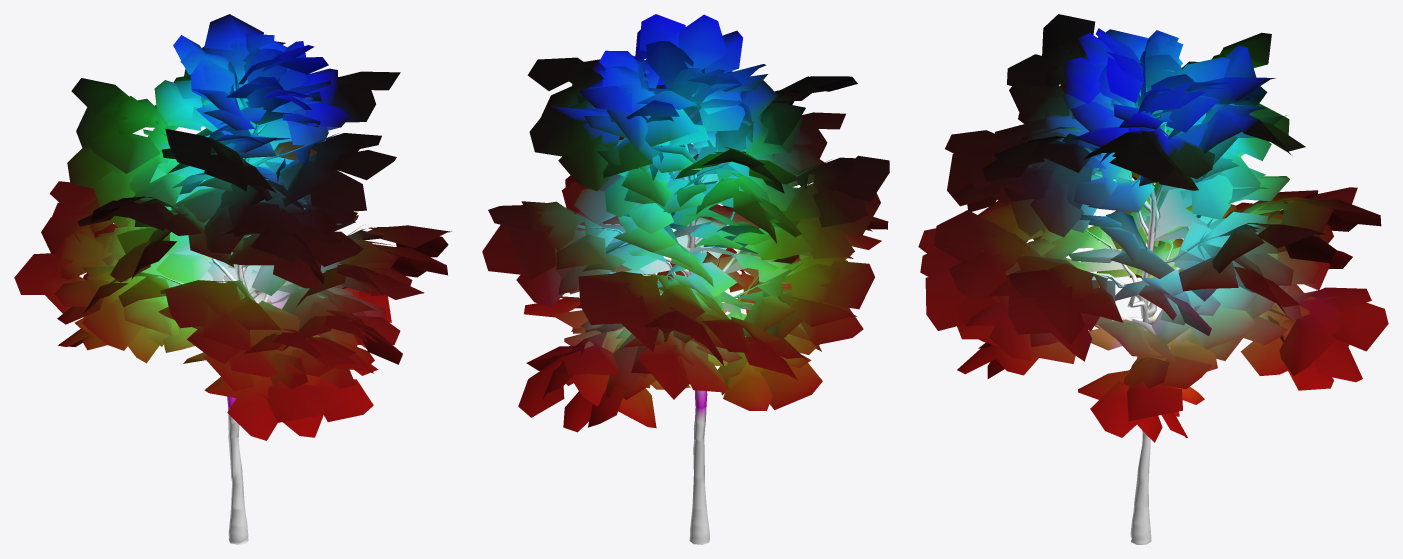
The model's file is arden_forest_maple_04_green.fbx.
3 views of the same model, side by side, from view 1: azimuth 30°, elevation 25°; view 2: azimuth 150°, elevation 25°; view 3: azimuth 270°, elevation 25° (orthographic). The views are drawn at different scales.
Visible parts, largest first — view 1: arden_forest_maple_04_green_leaves, arden_forest_maple_04_green_bark; view 2: arden_forest_maple_04_green_leaves, arden_forest_maple_04_green_bark; view 3: arden_forest_maple_04_green_leaves, arden_forest_maple_04_green_bark.
Part boxes in pixels (<box>): arden_forest_maple_04_green_leaves: <box>14,14,451,440</box>; arden_forest_maple_04_green_bark: <box>140,124,365,544</box>; arden_forest_maple_04_green_leaves: <box>482,14,889,432</box>; arden_forest_maple_04_green_bark: <box>583,144,807,544</box>; arden_forest_maple_04_green_leaves: <box>918,14,1388,442</box>; arden_forest_maple_04_green_bark: <box>1083,111,1268,544</box>.
Bounding box in the file's own units: 6.37 × 7.37 × 8.92.
